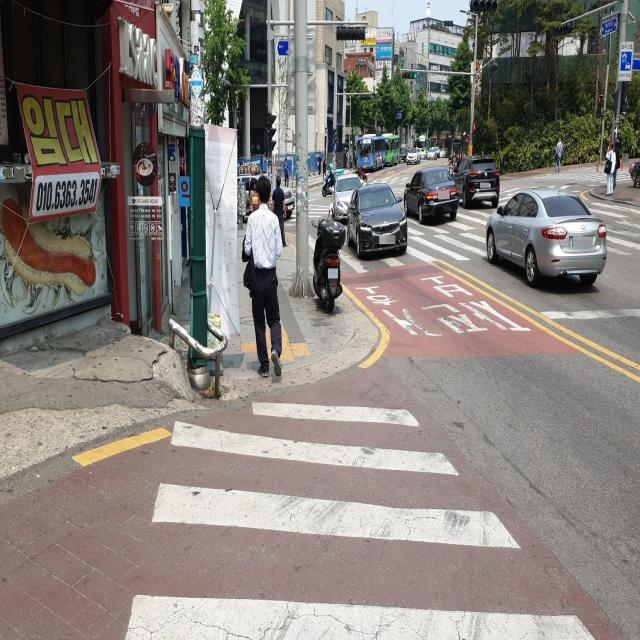빨간불: (595, 94, 604, 123)
횡단보도: (121, 399, 598, 640)
